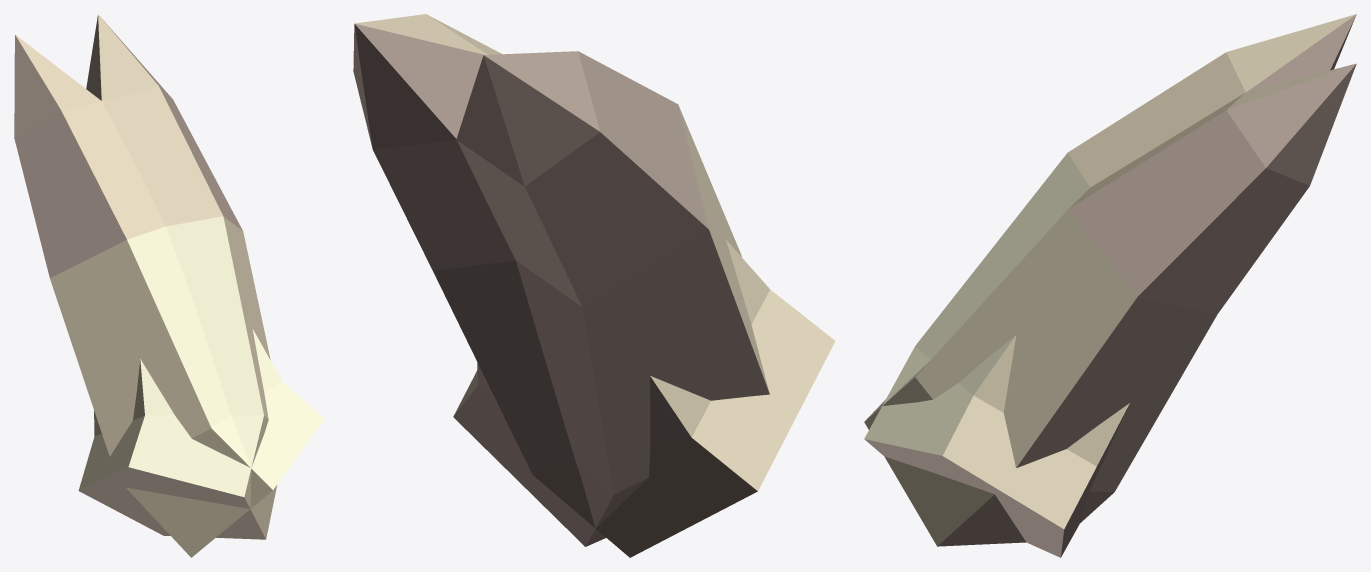
Rendered from horns_kb_nubs.glb.
3 renders of one model, left to right at view 1: azimuth 30°, elevation 25°; view 2: azimuth 150°, elevation 25°; view 3: azimuth 270°, elevation 25°, orthographic. The views are drawn at different scales.
Parts seen in each view (by area): view 1: Horn_R, Horn_L; view 2: Horn_R, Horn_L; view 3: Horn_L, Horn_R.
Part boxes in pixels (box(x1,y1,x2,y2)): Horn_R: box(14, 34, 324, 557); Horn_L: box(78, 14, 276, 539); Horn_R: box(453, 51, 769, 546); Horn_L: box(353, 14, 835, 557); Horn_L: box(864, 63, 1356, 546); Horn_R: box(864, 14, 1356, 557).
Size of the model in its own units: 0.0222 by 0.0453 by 0.0396.
Materials: 1 (1 with a texture image).
